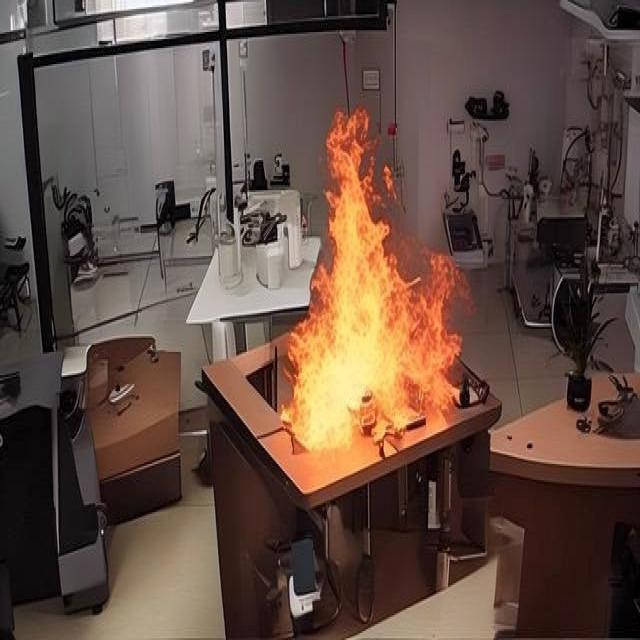fire: (272, 97, 468, 465)
